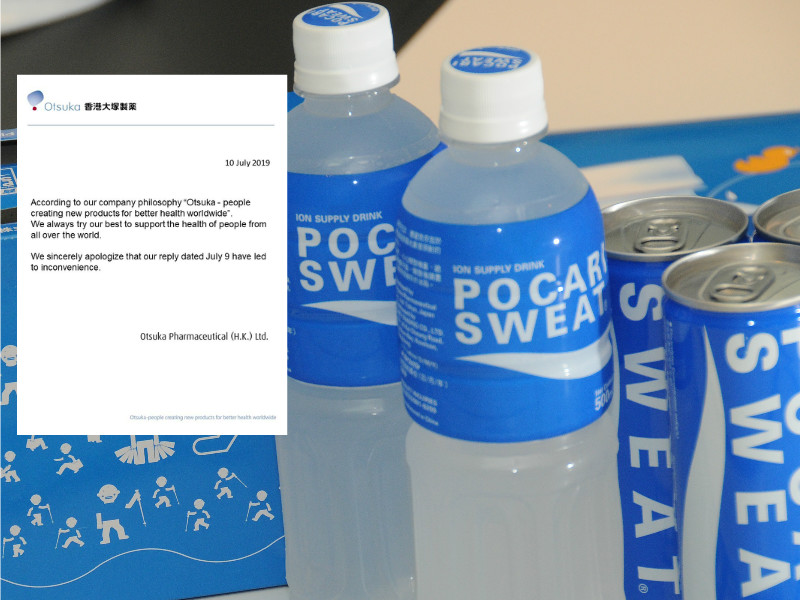POCARI SWEAT: (394, 40, 609, 600)
